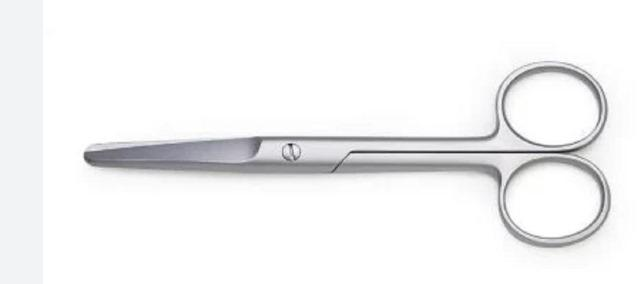Straight Mayo: (70, 60, 614, 251)
